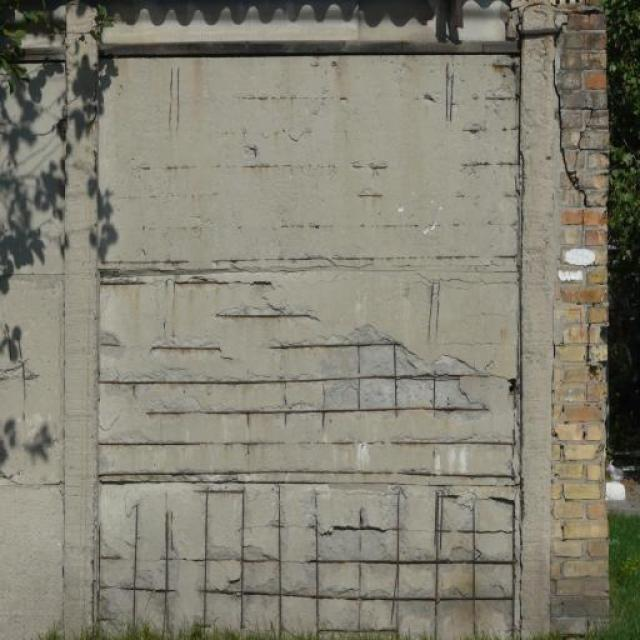D0w0: (99, 482, 516, 635), (100, 336, 512, 475), (164, 60, 401, 196), (430, 56, 519, 252), (218, 310, 312, 320), (101, 332, 121, 348)
